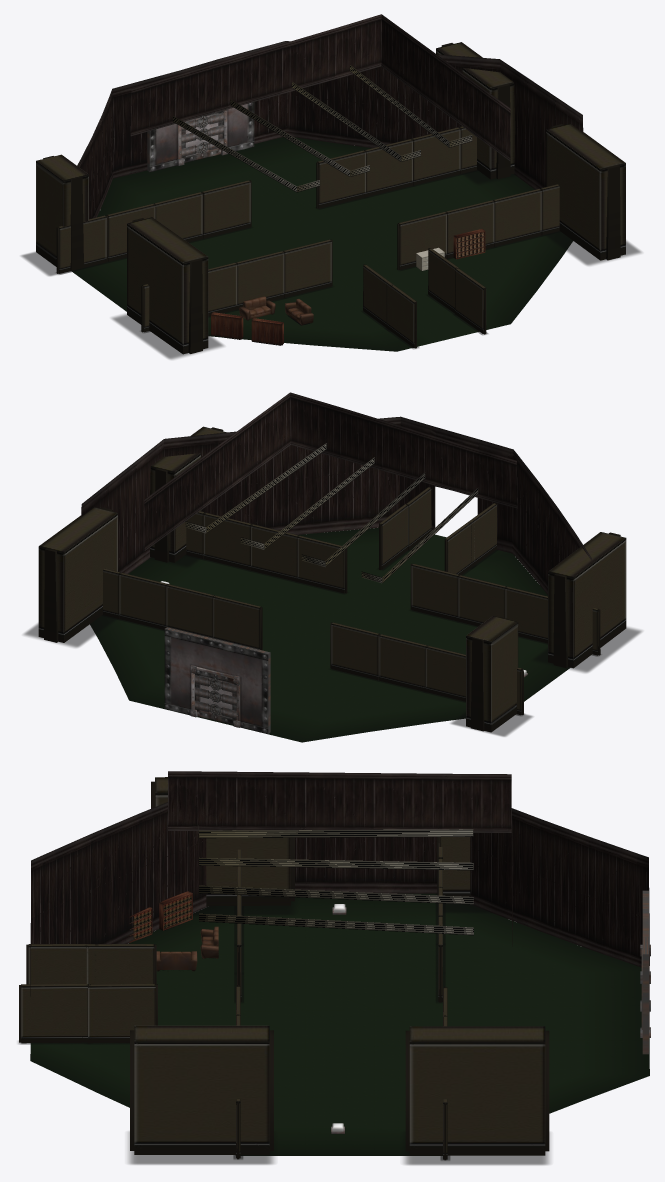
Rendered from room_8.glb.
The picture shows the model from 3 angles, top to bottom: view 1: azimuth 30°, elevation 25°; view 2: azimuth 150°, elevation 25°; view 3: azimuth 270°, elevation 25°; orthographic projection. The views are drawn at different scales.
Visible parts, largest first — view 1: Partition_A_Panel (×23), floor, walls, pocket, Partition_A_Shadow (×2), pCube1 (×2), LB_couchA6 (×2), Lights6, Lights4, Lights2, Lights1, polySurface1; view 2: Partition_A_Panel (×22), walls, floor, pocket, Partition_A_Shadow (×3), Lights1, Lights2, Lights4, Lights6; view 3: floor, walls, Partition_A_Panel (×8), Partition_A_Shadow (×3), Lights1, Lights2, Lights4, Lights6, pocket, LB_couchA6, polySurface1.
Boxes of the visible parts, bbox=[...] form: Partition_A_Panel (×23): bbox=[36, 42, 625, 354]; floor: bbox=[72, 137, 572, 351]; walls: bbox=[77, 14, 583, 218]; pocket: bbox=[147, 102, 254, 172]; Partition_A_Shadow (×2): bbox=[112, 231, 641, 359]; pCube1 (×2): bbox=[211, 312, 283, 345]; LB_couchA6 (×2): bbox=[239, 296, 313, 325]; Lights6: bbox=[173, 116, 319, 192]; Lights4: bbox=[230, 99, 369, 176]; Lights2: bbox=[291, 82, 420, 161]; Lights1: bbox=[350, 65, 472, 147]; polySurface1: bbox=[456, 232, 484, 257]; Partition_A_Panel (×22): bbox=[38, 426, 626, 732]; walls: bbox=[81, 392, 591, 594]; floor: bbox=[90, 527, 569, 742]; pocket: bbox=[164, 627, 270, 733]; Partition_A_Shadow (×3): bbox=[23, 615, 641, 736]; Lights1: bbox=[185, 443, 326, 533]; Lights2: bbox=[240, 457, 374, 549]; Lights4: bbox=[301, 472, 425, 566]; Lights6: bbox=[361, 488, 478, 583]; floor: bbox=[30, 893, 649, 1155]; walls: bbox=[30, 771, 649, 1057]; Partition_A_Panel (×8): bbox=[19, 774, 549, 1155]; Partition_A_Shadow (×3): bbox=[128, 901, 549, 1164]; Lights1: bbox=[199, 913, 473, 935]; Lights2: bbox=[199, 885, 473, 904]; Lights4: bbox=[199, 857, 473, 870]; Lights6: bbox=[198, 825, 473, 838]; pocket: bbox=[642, 890, 648, 1054]; LB_couchA6: bbox=[156, 951, 197, 971]; polySurface1: bbox=[163, 894, 191, 928].
Bounding box in the file's own units: 150 × 48.37 × 139.
23 materials, 22 textured.
